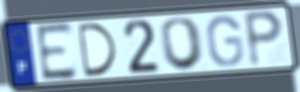2: (123, 17, 162, 76)
D: (75, 21, 119, 79)
E: (34, 21, 80, 85)
G: (205, 14, 246, 69)
O: (159, 16, 207, 73)
P: (242, 9, 286, 70)
